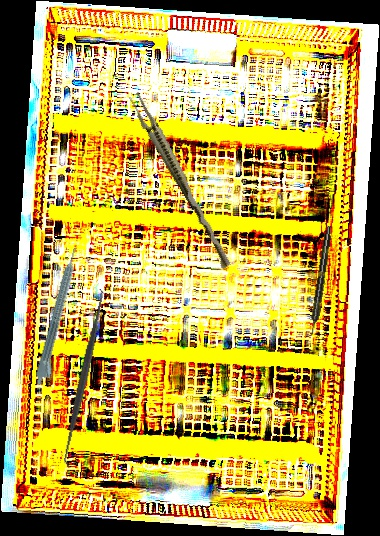Handpiece: (33, 246, 86, 388), (307, 224, 334, 338)
Spatula Surgical: (54, 288, 114, 468)
Tissue Forceps: (124, 90, 238, 270)
